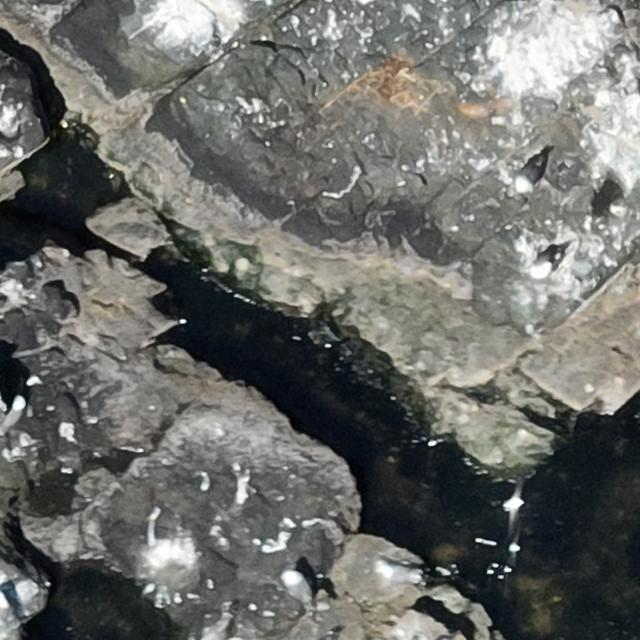umineko: (378, 562, 428, 587), (527, 250, 561, 281), (4, 394, 26, 434), (515, 160, 542, 189), (285, 572, 308, 603)
